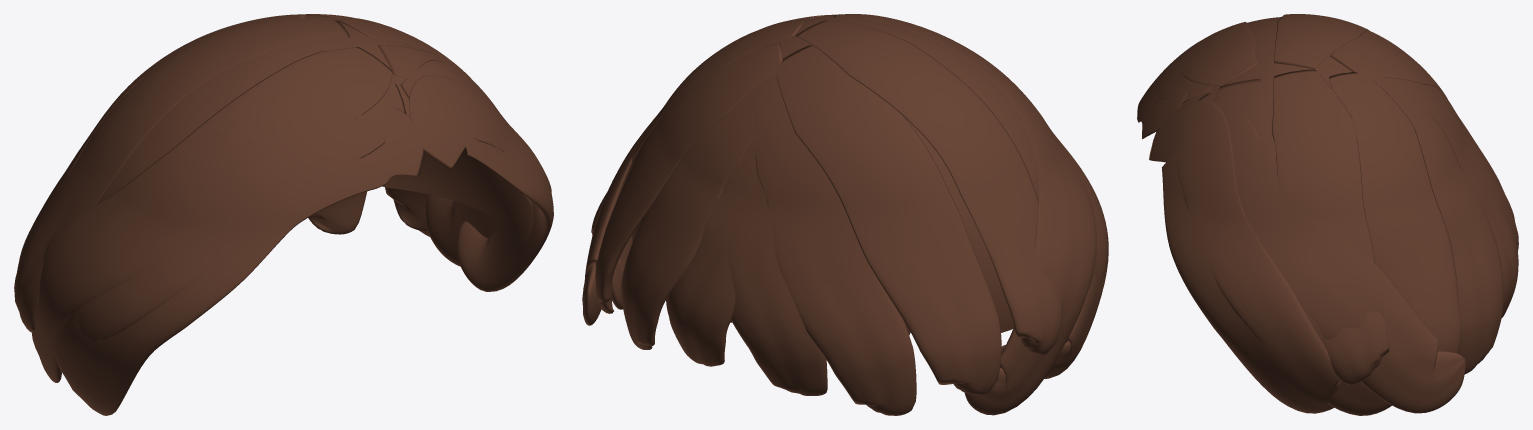
Rendered from Masculine-flow-cowboy261-hair.glb.
3 views of the same model, side by side, from view 1: azimuth 30°, elevation 25°; view 2: azimuth 150°, elevation 25°; view 3: azimuth 270°, elevation 25° (orthographic). The views are drawn at different scales.
Visible parts, largest first — view 1: 226 hair / Hair260 / layered flow; view 2: 226 hair / Hair260 / layered flow; view 3: 226 hair / Hair260 / layered flow.
Boxes of the visible parts, left/top/right/bottom form: 226 hair / Hair260 / layered flow: left=14, top=14, right=553, bottom=415; 226 hair / Hair260 / layered flow: left=582, top=14, right=1108, bottom=415; 226 hair / Hair260 / layered flow: left=1137, top=14, right=1518, bottom=415.
Bounding box in the file's own units: 1.1 × 0.7109 × 0.8189.
